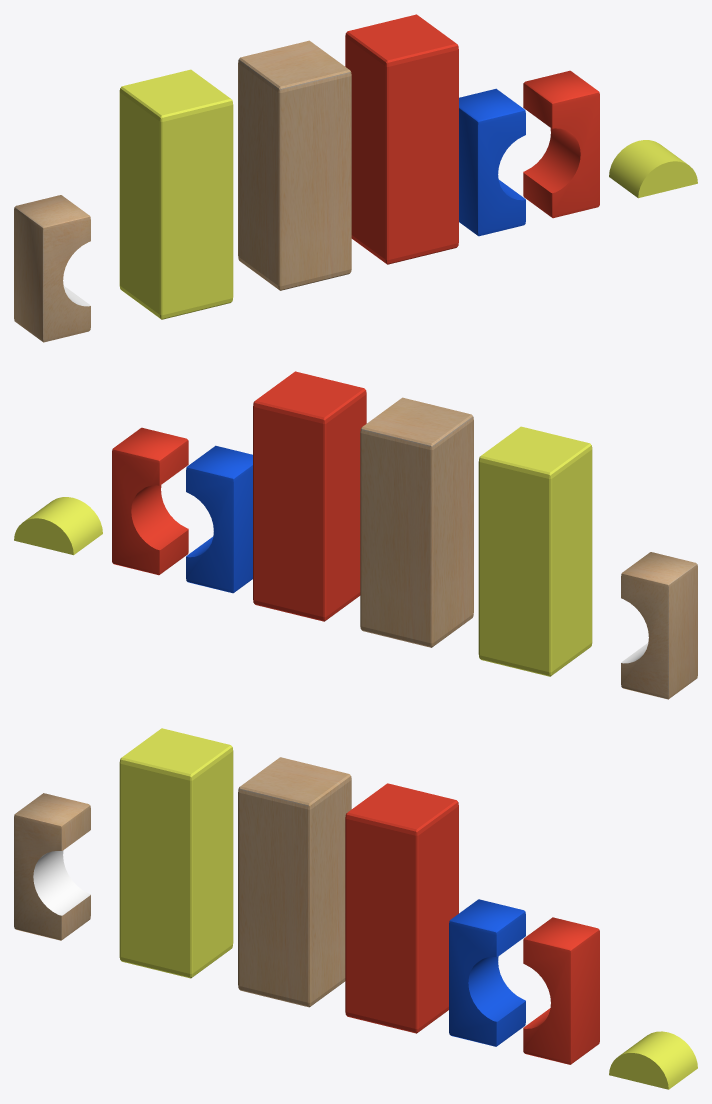
File: block_1.fbx
3 renders of one model, top to bottom at view 1: azimuth 30°, elevation 25°; view 2: azimuth 150°, elevation 25°; view 3: azimuth 330°, elevation 25°, orthographic.
Visible parts, largest first — view 1: block_6, block_5, block_4, block_7, block_2, block_3, block_1; view 2: block_6, block_5, block_4, block_7, block_2, block_3, block_1; view 3: block_6, block_4, block_5, block_3, block_7, block_2, block_1.
Part boxes in pixels (x1=…): block_6: x1=119, y1=69, x2=233, y2=319; block_5: x1=238, y1=40, x2=351, y2=290; block_4: x1=345, y1=14, x2=458, y2=264; block_7: x1=14, y1=195, x2=90, y2=342; block_2: x1=523, y1=70, x2=599, y2=218; block_3: x1=459, y1=88, x2=525, y2=236; block_1: x1=609, y1=140, x2=697, y2=198; block_6: x1=478, y1=426, x2=592, y2=676; block_5: x1=360, y1=397, x2=473, y2=647; block_4: x1=253, y1=371, x2=366, y2=621; block_7: x1=621, y1=552, x2=697, y2=699; block_2: x1=112, y1=427, x2=188, y2=575; block_3: x1=186, y1=445, x2=252, y2=593; block_1: x1=14, y1=497, x2=102, y2=555; block_6: x1=119, y1=728, x2=233, y2=978; block_4: x1=345, y1=783, x2=458, y2=1033; block_5: x1=238, y1=757, x2=351, y2=1007; block_3: x1=449, y1=899, x2=525, y2=1046; block_7: x1=14, y1=793, x2=90, y2=940; block_2: x1=523, y1=917, x2=599, y2=1064; block_1: x1=609, y1=1031, x2=697, y2=1089.
Size of the model in its own units: 13451 by 4006 by 1501.
5 materials, 2 textured.
